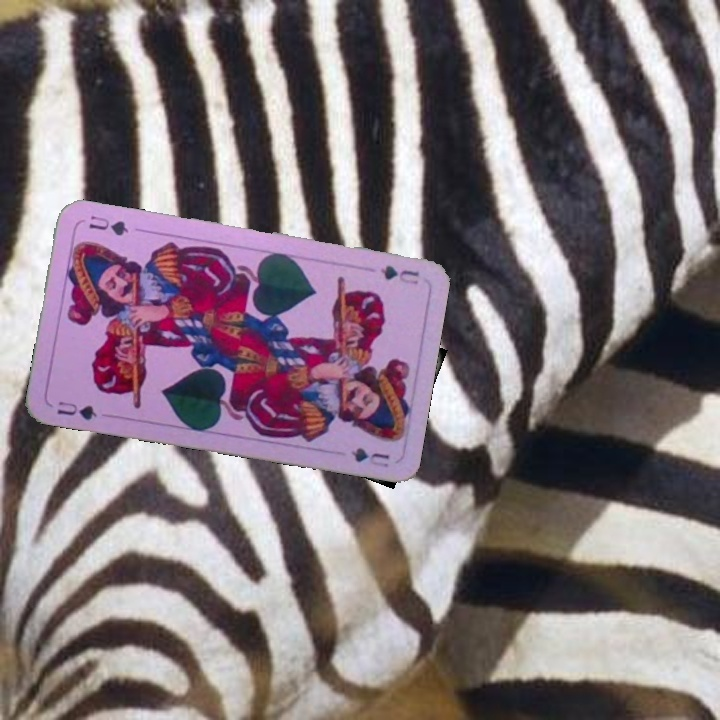GU: (53, 397, 100, 423), (377, 261, 422, 287)
